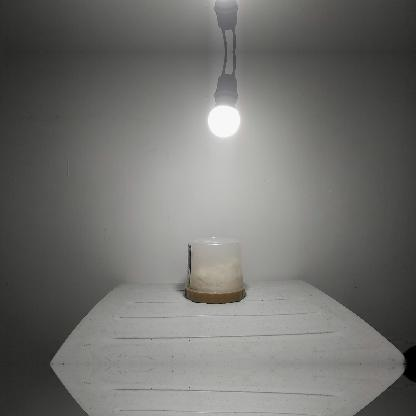Lady-s-Choice: (184, 235, 246, 303)
